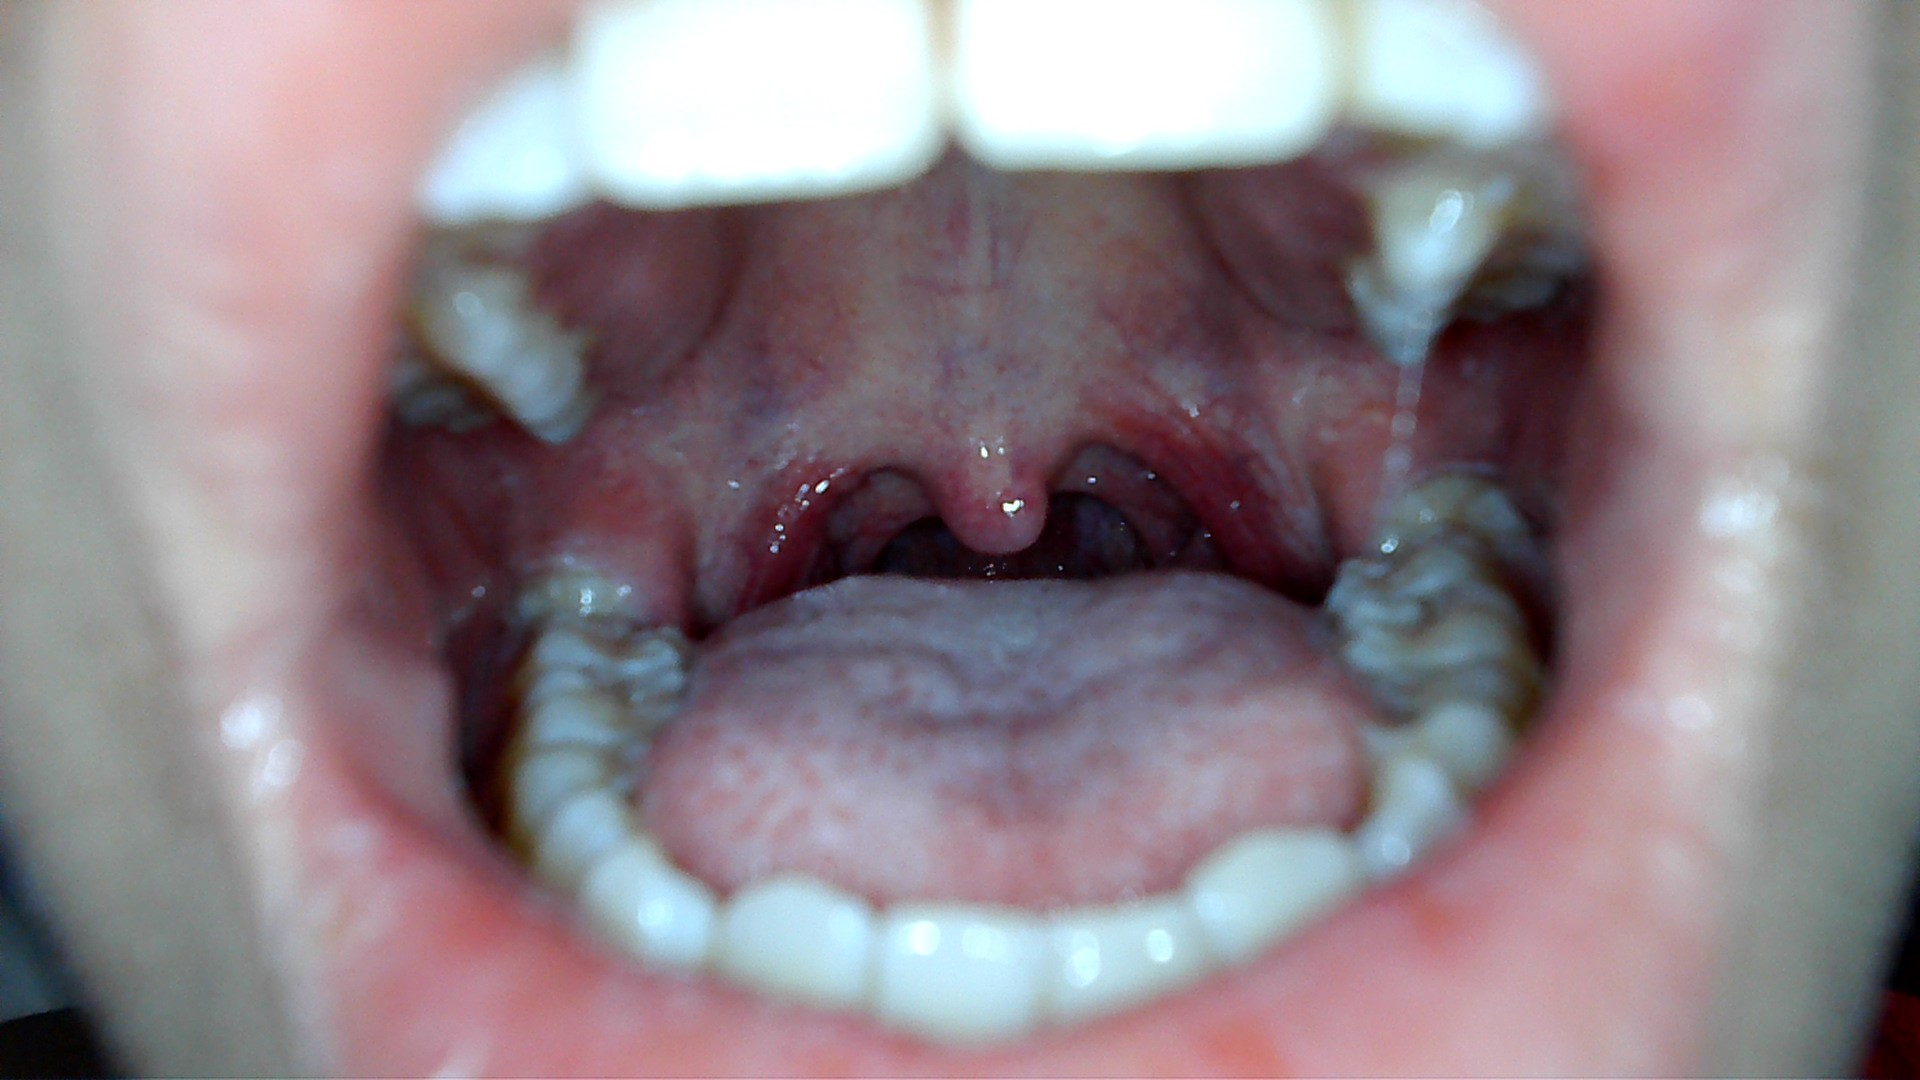throat: (1142, 368, 1302, 568), (723, 388, 870, 580)
